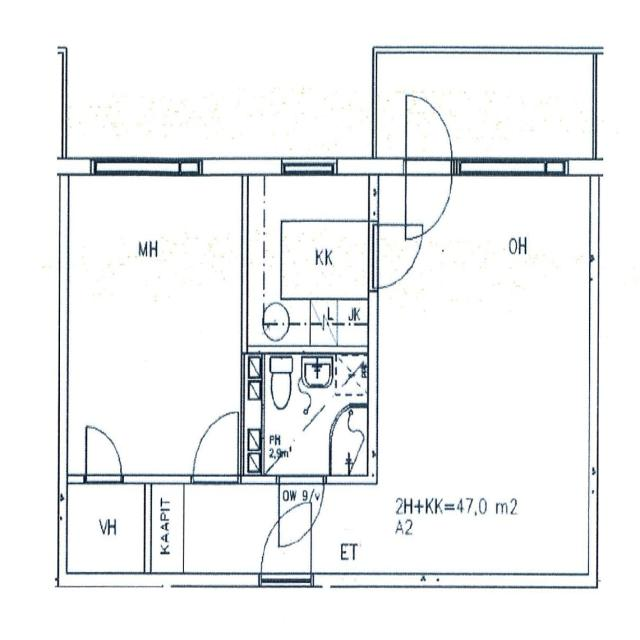door: (190, 404, 240, 480), (277, 480, 316, 561), (82, 419, 126, 483), (377, 231, 420, 292)
window: (280, 156, 337, 178)
zone: (68, 166, 243, 496), (252, 180, 372, 352), (255, 350, 353, 476), (64, 477, 149, 576), (149, 479, 185, 574), (328, 402, 373, 476), (276, 487, 314, 558)
